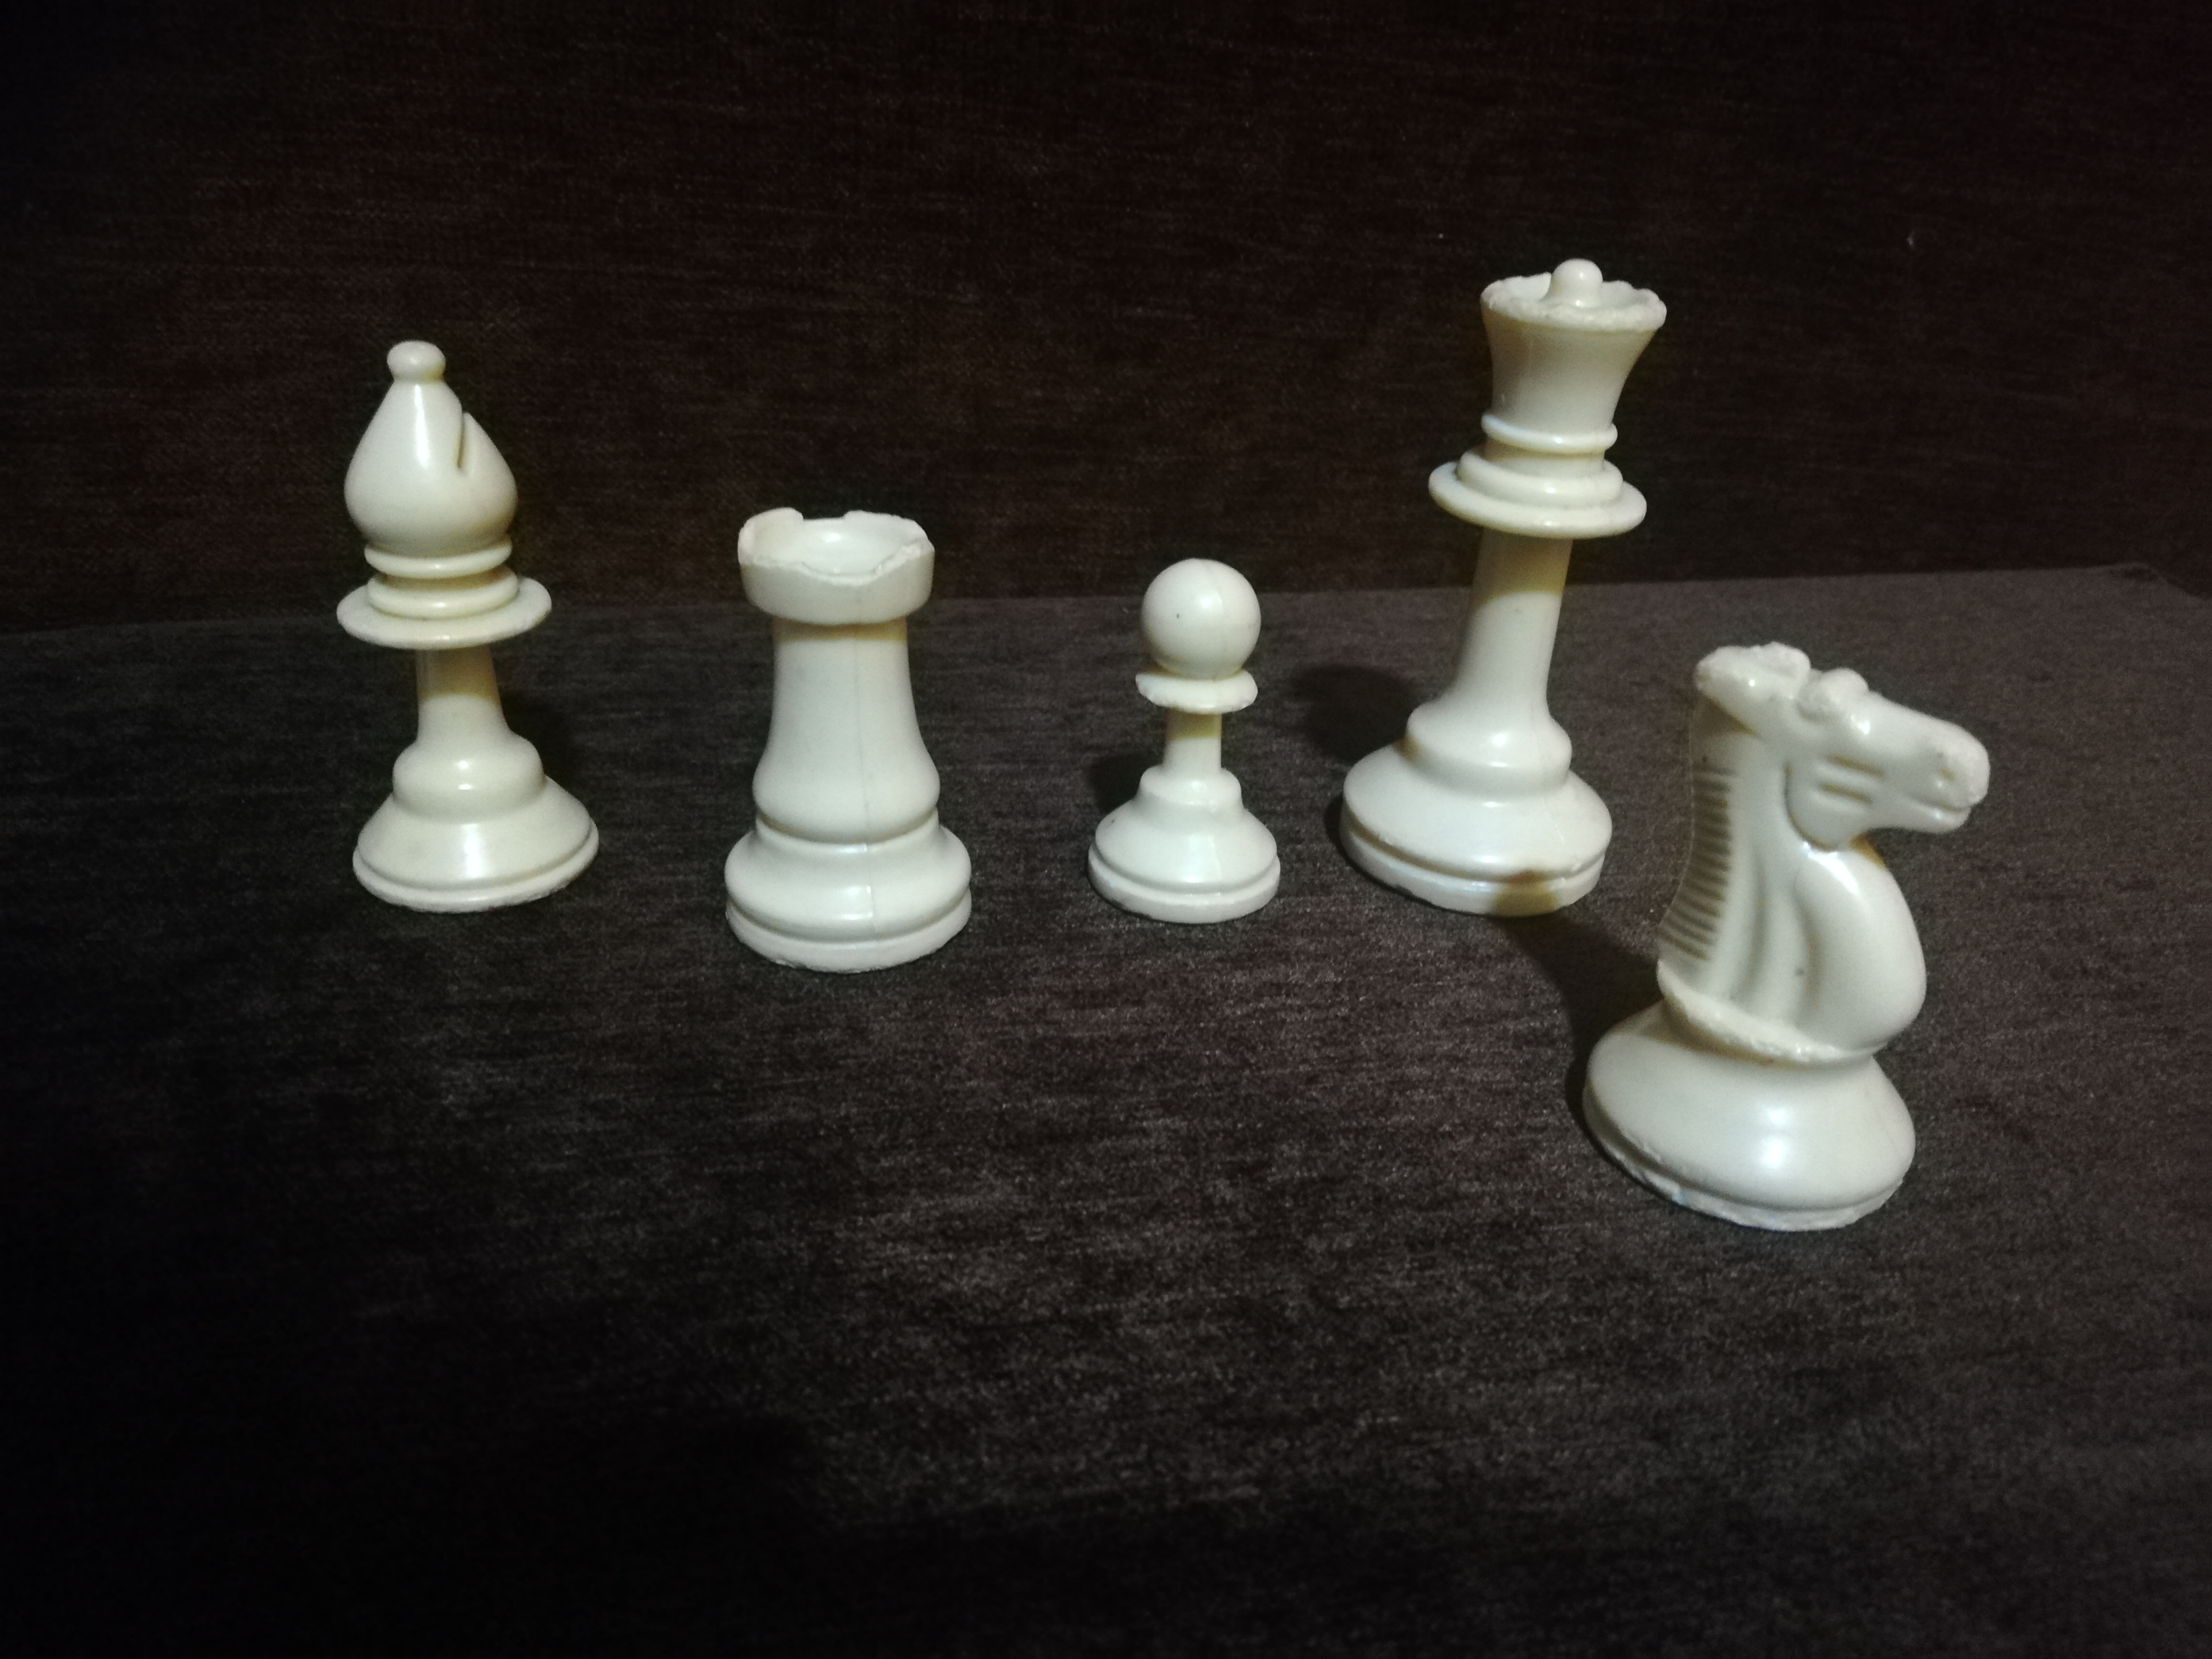Bishop: (312, 321, 626, 908)
Knight: (1592, 634, 1990, 1275)
Pawn: (1082, 545, 1313, 916)
Queen: (1354, 265, 1656, 909)
Rook: (709, 482, 1000, 954)
